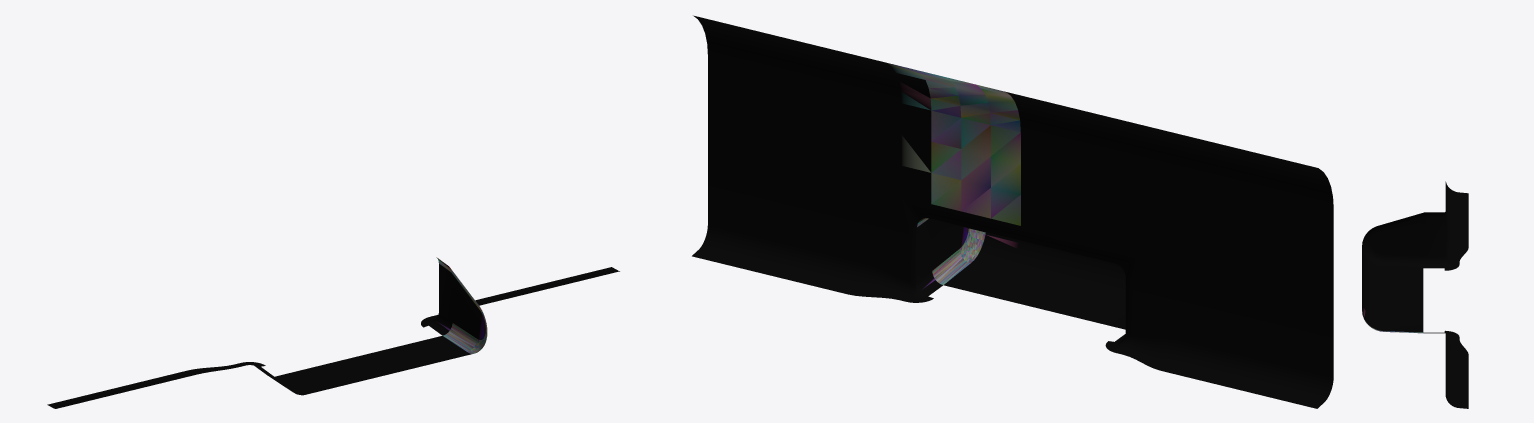
Rendered from Goal_STD_Collision.gltf.
3 renders of one model, left to right at view 1: azimuth 30°, elevation 25°; view 2: azimuth 150°, elevation 25°; view 3: azimuth 270°, elevation 25°, orthographic. The views are drawn at different scales.
Parts seen in each view (by area): view 1: Goal_STD_Collision; view 2: Goal_STD_Collision; view 3: Goal_STD_Collision.
Boxes of the visible parts, box(x1,y1,x2,y2) form: Goal_STD_Collision: box(47, 257, 619, 408); Goal_STD_Collision: box(692, 15, 1333, 408); Goal_STD_Collision: box(1362, 181, 1468, 408).
Size of the model in its own units: 53.76 by 20.84 by 16.64.
